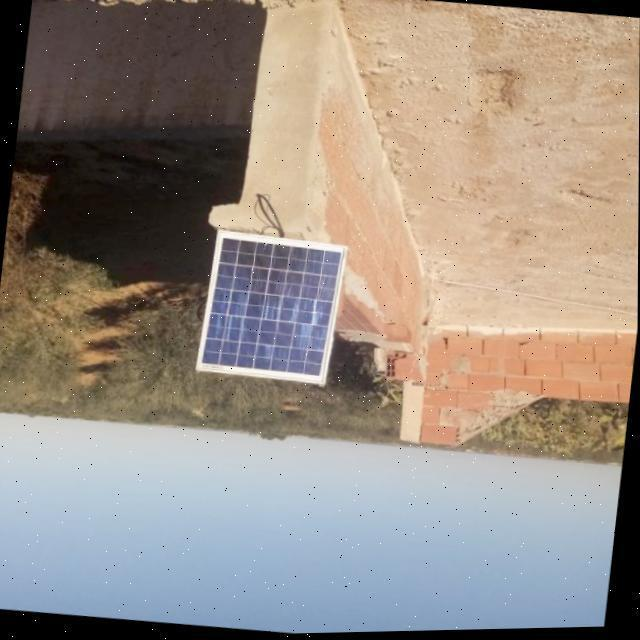Normal Solar Panel: (196, 228, 346, 387)
